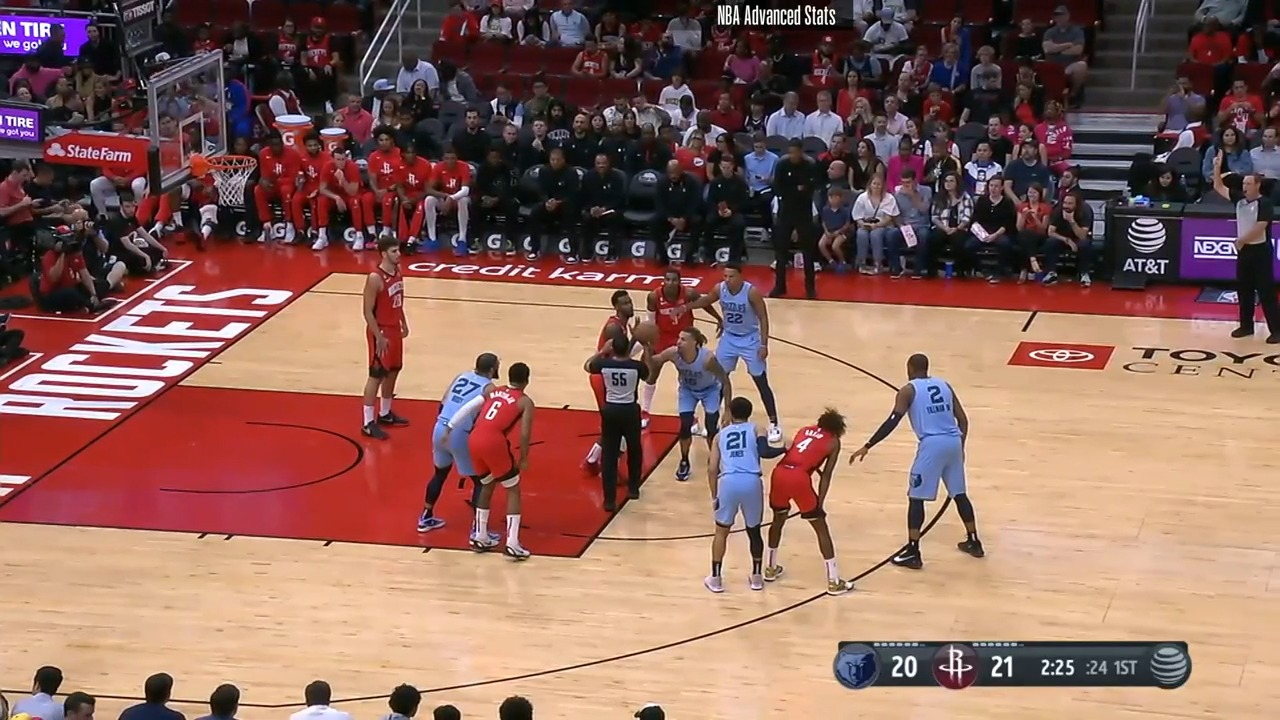net: (186, 146, 260, 219)
player: (864, 349, 984, 575), (765, 406, 860, 596), (464, 357, 550, 565), (416, 349, 505, 545), (585, 321, 666, 520), (695, 259, 779, 447), (703, 393, 776, 594), (360, 236, 425, 444), (657, 321, 731, 487), (581, 289, 638, 468), (640, 259, 698, 358)
referee: (1235, 173, 1280, 346)
